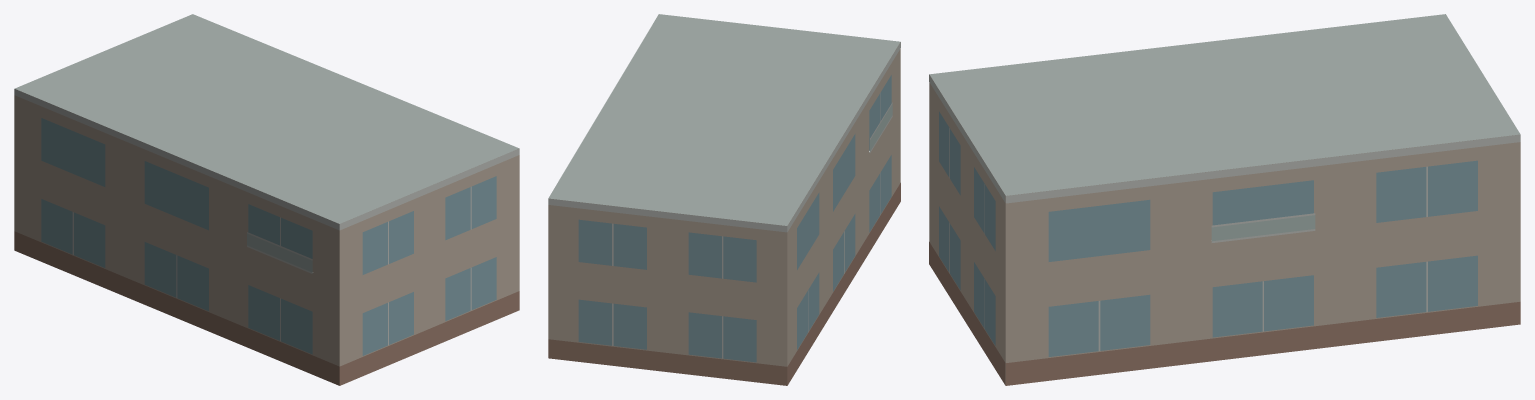
File: survey-upis-32721337.glb
3 views of the same model, side by side, from view 1: azimuth 30°, elevation 25°; view 2: azimuth 150°, elevation 25°; view 3: azimuth 270°, elevation 25° (orthographic). The views are drawn at different scales.
Parts seen in each view (by area): view 1: survey-upis-32721337.tmp; view 2: survey-upis-32721337.tmp; view 3: survey-upis-32721337.tmp.
Boxes of the visible parts, x1,y1,x2,y2 form: survey-upis-32721337.tmp: [14, 14, 519, 385]; survey-upis-32721337.tmp: [548, 14, 900, 385]; survey-upis-32721337.tmp: [929, 14, 1520, 385].
Bounding box in the file's own units: 12.54 × 6.1 × 17.22.
